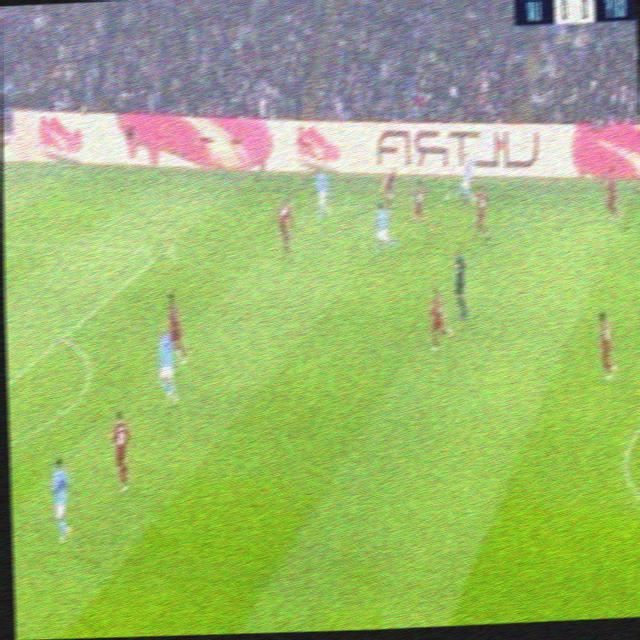bigarea_top_inner: (151, 235, 177, 268)
corner: (2, 157, 11, 176)
top_arc_area_intersection: (53, 322, 75, 350)
